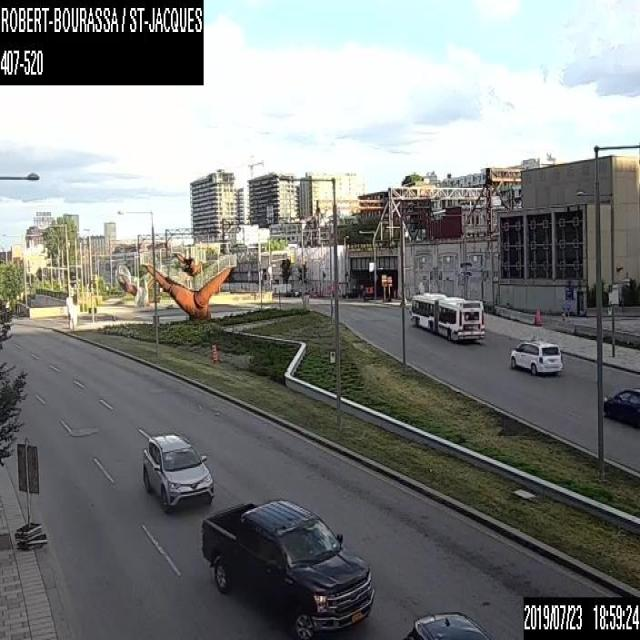bus: (409, 288, 487, 343)
construction: (534, 306, 544, 326), (208, 343, 218, 361)
vehicle: (200, 494, 375, 638), (140, 429, 215, 514), (401, 605, 494, 639), (507, 336, 564, 375), (602, 384, 639, 429)
